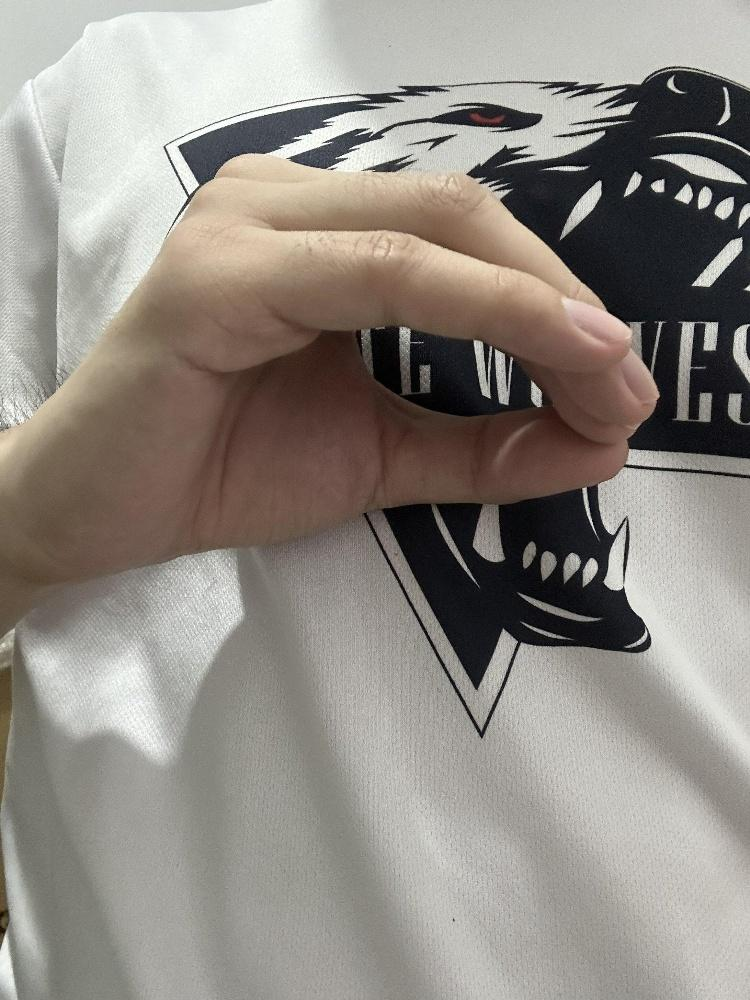o: (28, 146, 661, 580)
